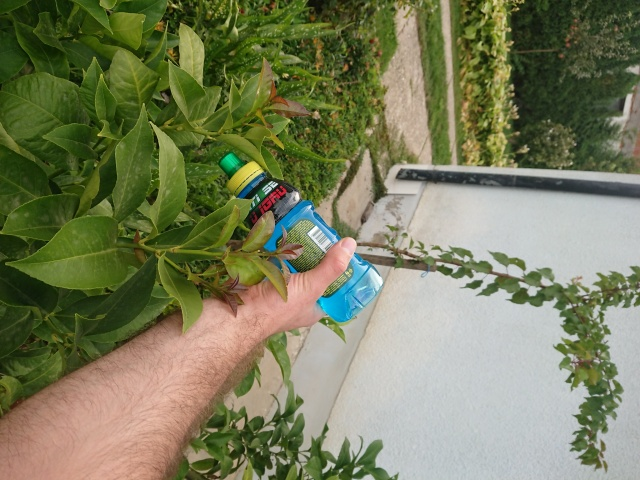Vindi Iso Sport Forest Strawberries 500mL: (216, 150, 385, 322)
